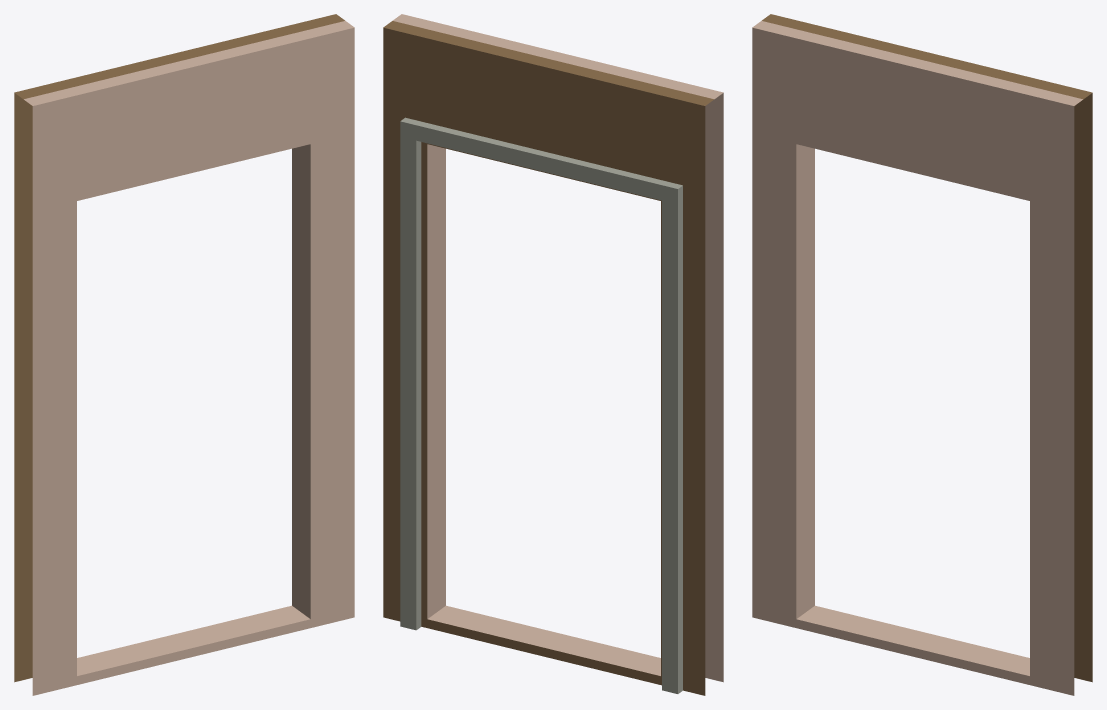
Rendered from WallDoorx2.fbx.
The picture shows the model from 3 angles, left to right: view 1: azimuth 30°, elevation 25°; view 2: azimuth 150°, elevation 25°; view 3: azimuth 330°, elevation 25°; orthographic projection.
Parts seen in each view (by area): view 1: WallSegmentDoorway; view 2: WallSegmentDoorway; view 3: WallSegmentDoorway.
Part boxes in pixels (box(x1,y1,x2,y2)): WallSegmentDoorway: box(14, 14, 354, 695); WallSegmentDoorway: box(383, 14, 723, 695); WallSegmentDoorway: box(752, 14, 1092, 695).
Bounding box in the file's own units: 200 × 350 × 25.44.
